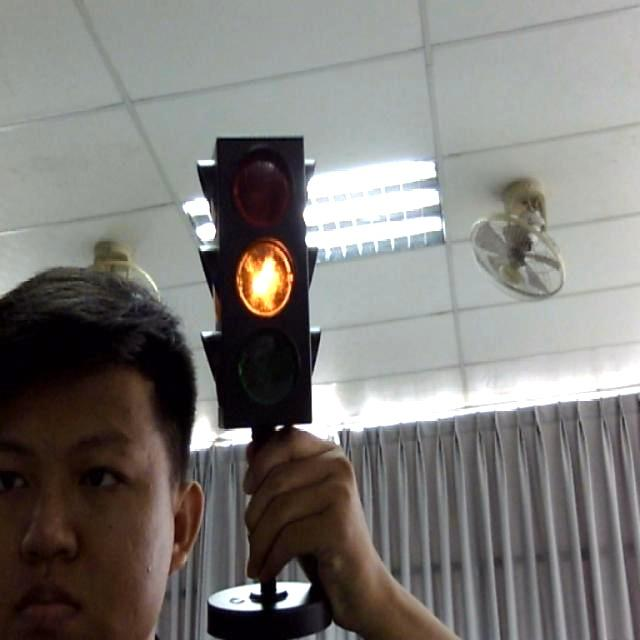Yellow: (212, 136, 324, 430)
